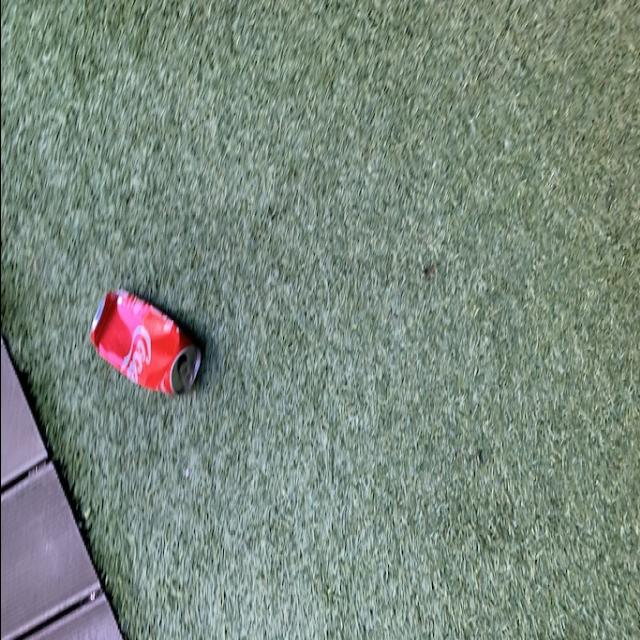Aluminum Can: (84, 276, 202, 398)
